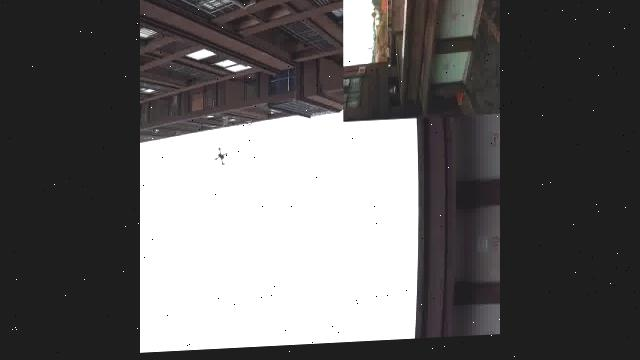drone: (210, 147, 230, 169)
